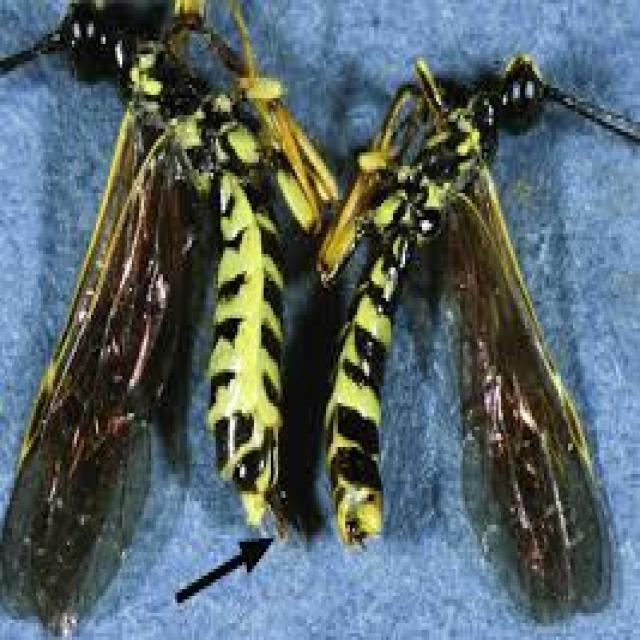Saw Fly: (0, 0, 317, 634), (326, 40, 635, 624)
